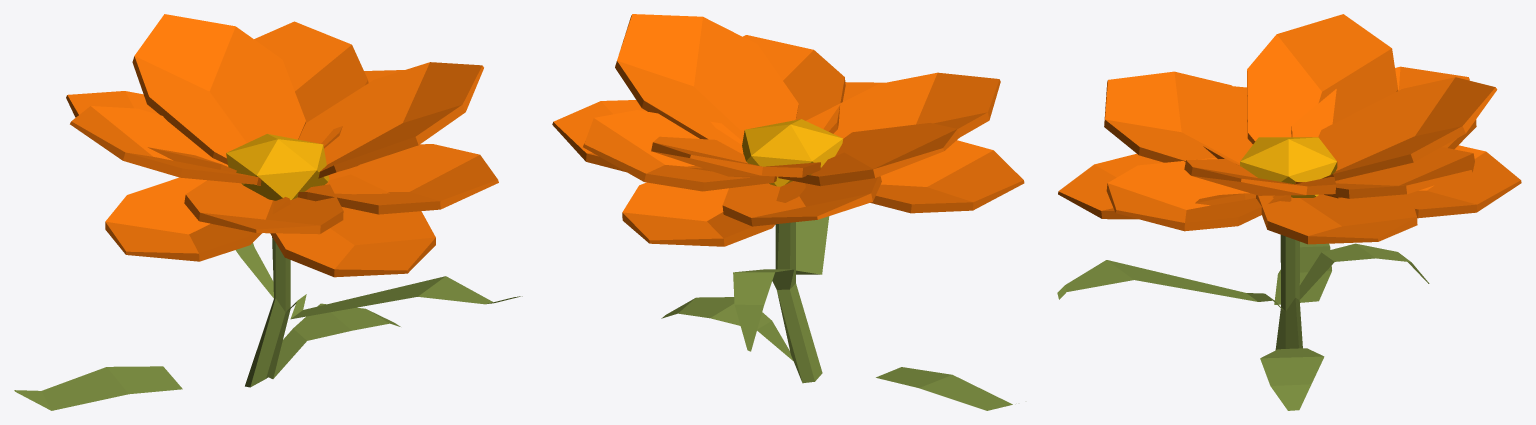
3 renders of one model, left to right at view 1: azimuth 30°, elevation 25°; view 2: azimuth 150°, elevation 25°; view 3: azimuth 270°, elevation 25°, orthographic. The views are drawn at different scales.
Visible parts, largest first — view 1: d813ac09; view 2: d813ac09; view 3: d813ac09.
Boxes of the visible parts, <box> form: d813ac09: <box>14,14,522,410</box>; d813ac09: <box>552,14,1024,410</box>; d813ac09: <box>1057,14,1521,410</box>.
Size of the model in its own units: 0.0812 by 0.0521 by 0.0762.
